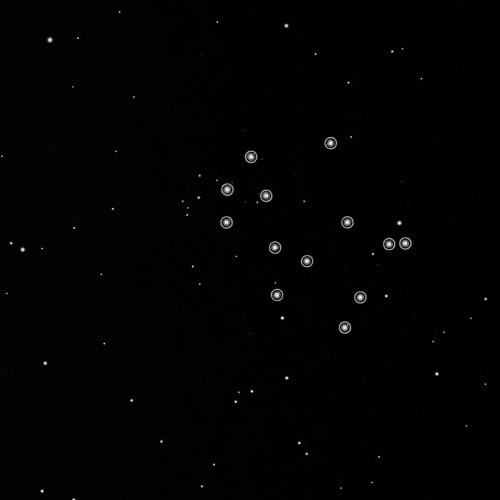gemini: (197, 132, 419, 341)
